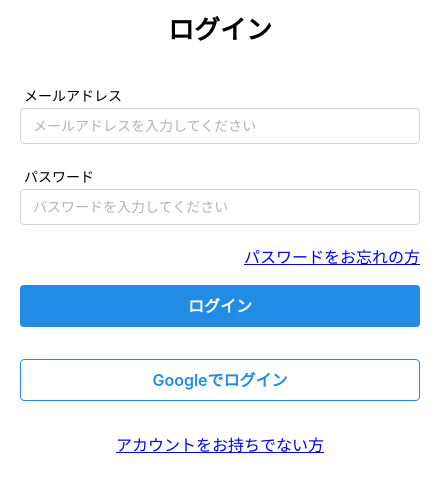
Test case: ログインページ入力チェック › 入力フォームが両方空の時にログインボタン押下でエラーメッセージが表示されること
Click the button with aria-label "login" at (220, 306), box [20,286,420,328]
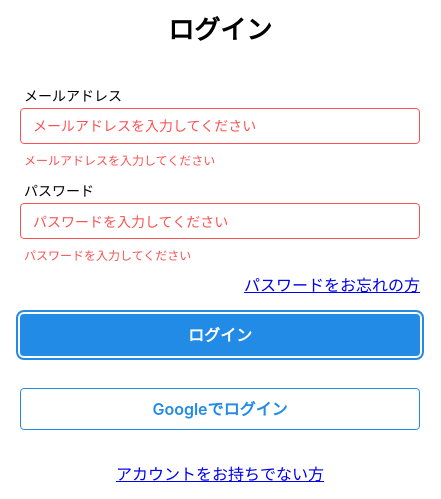
Result: the text "メールアドレスを入力してください" is shown at [24,153,215,168]
Result: the text "パスワードを入力してください" is shown at [24,248,191,263]
